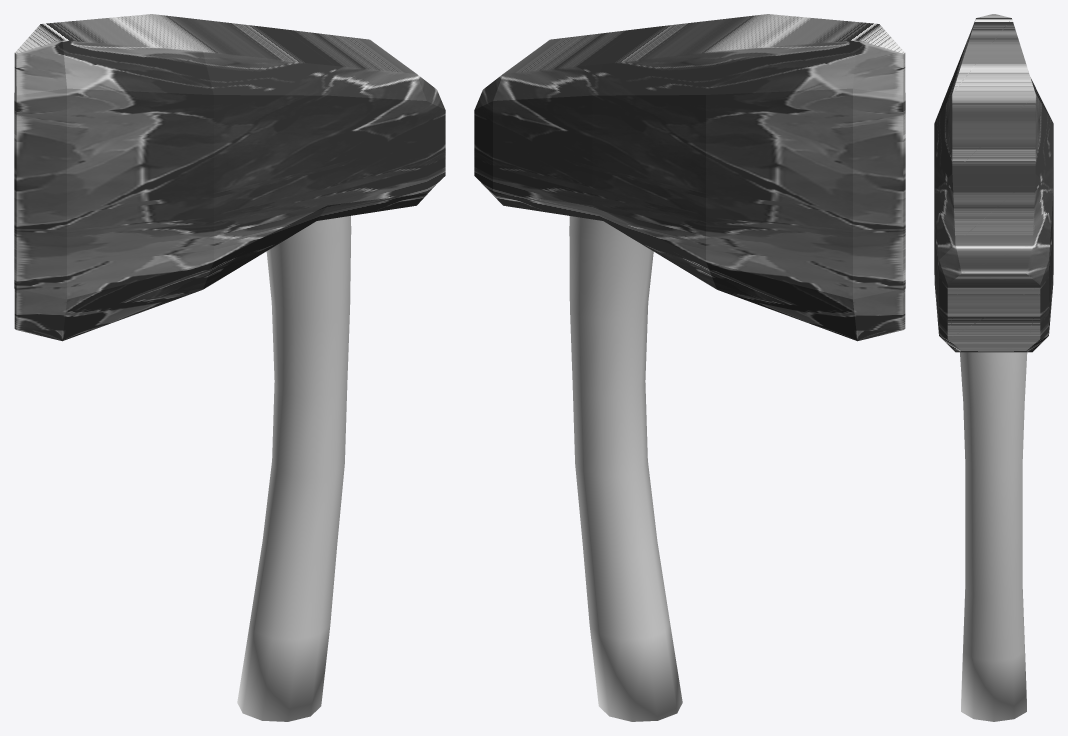
Rendered from unpainted.glb.
The picture shows the model from 3 angles, left to right: view 1: azimuth 30°, elevation 25°; view 2: azimuth 150°, elevation 25°; view 3: azimuth 270°, elevation 25°; orthographic projection. The views are drawn at different scales.
Visible parts, largest first — view 1: AxeBlade, RecoveredHandle; view 2: AxeBlade, RecoveredHandle; view 3: AxeBlade, RecoveredHandle.
Part boxes in pixels (left/top/right/bottom): AxeBlade: left=14, top=14, right=445, bottom=341; RecoveredHandle: left=237, top=216, right=351, bottom=721; AxeBlade: left=474, top=14, right=905, bottom=341; RecoveredHandle: left=569, top=216, right=682, bottom=721; AxeBlade: left=934, top=14, right=1053, bottom=352; RecoveredHandle: left=960, top=352, right=1027, bottom=721.
Bounding box in the file's own units: 0.9014 × 1.56 × 0.2825.
Materials: 2 (1 with a texture image).
